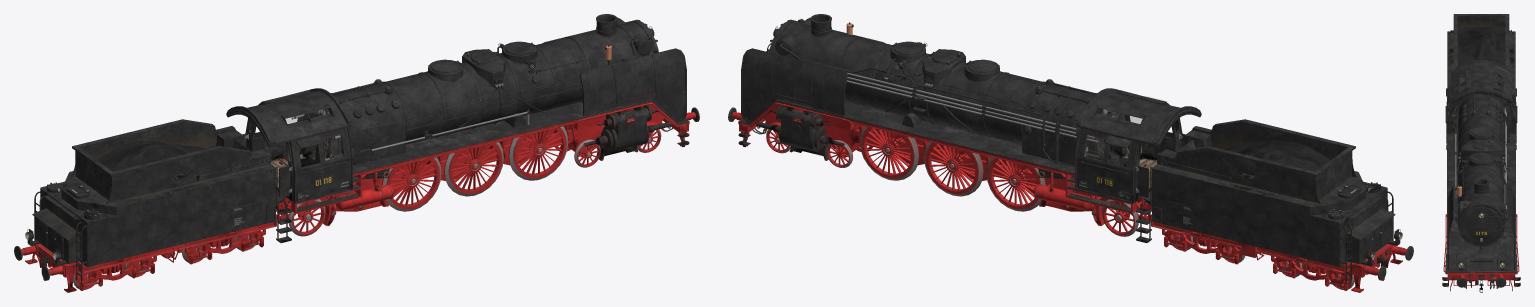
File: locomotive.glb
3 renders of one model, left to right at view 1: azimuth 30°, elevation 25°; view 2: azimuth 150°, elevation 25°; view 3: azimuth 270°, elevation 25°, orthographic. The views are drawn at different scales.
Visible parts, largest first — view 1: engine_kessel, tender_kohletender, engine_haus, engine_rader, tender_rader, axle_6_rader, axle_7_rader, axle_5_rader, tender_cole, truck_0_rader, truck_1_rader, axle_4_rader (+2 smaller); view 2: engine_kessel, tender_kohletender, engine_haus, engine_rader, tender_rader, axle_6_rader, axle_7_rader, axle_5_rader, tender_cole, truck_0_rader, truck_1_rader, axle_4_rader (+2 smaller); view 3: engine_kessel, engine_haus, tender_kohletender, tender_cole, engine_rader, engine_glass.
Boxes of the visible parts, box(x1,y1,x2,y2) form: engine_kessel: box(331, 14, 689, 176); tender_kohletender: box(25, 119, 291, 284); engine_haus: box(226, 88, 352, 203); engine_rader: box(276, 102, 699, 225); tender_rader: box(14, 217, 276, 280); axle_6_rader: box(433, 142, 503, 196); axle_7_rader: box(503, 126, 568, 180); axle_5_rader: box(382, 157, 441, 211); tender_cole: box(97, 141, 216, 171); truck_0_rader: box(25, 247, 179, 292); truck_1_rader: box(176, 229, 265, 264); axle_4_rader: box(276, 199, 325, 236); engine_kessel: box(738, 14, 1096, 176); tender_kohletender: box(1136, 119, 1402, 284); engine_haus: box(1075, 88, 1201, 203); engine_rader: box(728, 102, 1151, 225); tender_rader: box(1151, 217, 1413, 280); axle_6_rader: box(924, 142, 994, 196); axle_7_rader: box(859, 126, 924, 180); axle_5_rader: box(986, 157, 1045, 211); tender_cole: box(1217, 141, 1330, 171); truck_0_rader: box(1271, 253, 1402, 292); truck_1_rader: box(1162, 229, 1241, 264); axle_4_rader: box(1101, 199, 1151, 236); engine_kessel: box(1445, 94, 1517, 274); engine_haus: box(1445, 60, 1517, 145); tender_kohletender: box(1446, 14, 1516, 149); tender_cole: box(1457, 27, 1505, 66); engine_rader: box(1442, 214, 1520, 292); engine_glass: box(1449, 74, 1513, 115).
Bounding box in the file's own units: 39.8 × 7.84 × 5.78.
9 materials, 9 textured.
